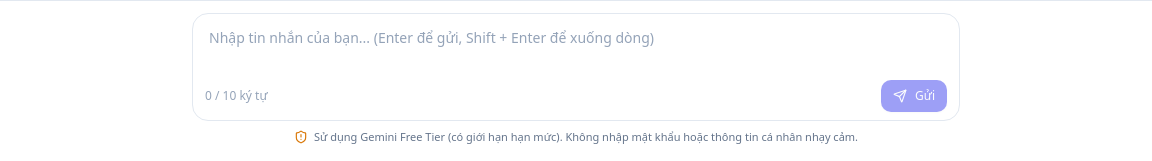
ChatComposer › blocks sending and displays feedback when exceeding maxLength
This screenshot has width=1152, height=161.
Type "12345678901" into the text box labelled "Nhập tin nhắn" at (576, 48), box [201,22,951,74]
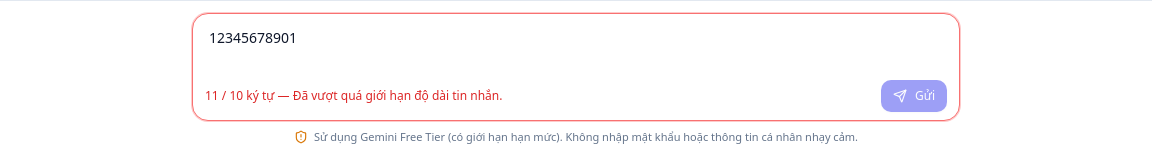
Expected: the button "Gửi" is disabled, [881,80,947,112]
Result: the text "11 / 10 ký tự — Đã vượt quá giới hạn độ dài tin nhắn." is shown at [205,88,502,104]
